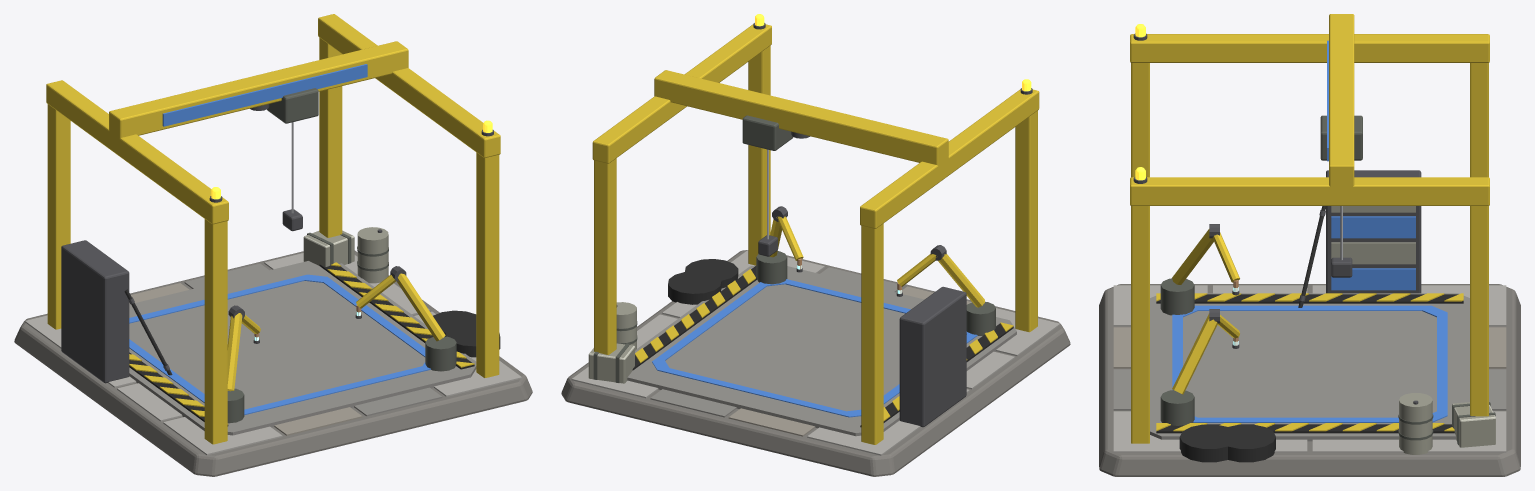
Rendered from repair_bay_blue.glb.
3 renders of one model, left to right at view 1: azimuth 30°, elevation 25°; view 2: azimuth 150°, elevation 25°; view 3: azimuth 270°, elevation 25°, orthographic. The views are drawn at different scales.
Visible parts, largest first — view 1: Body; view 2: Body; view 3: Body.
Boxes of the visible parts, left/top/right/bottom form: Body: left=14, top=14, right=532, bottom=476; Body: left=561, top=14, right=1070, bottom=476; Body: left=1099, top=14, right=1520, bottom=476.
Size of the model in its own units: 4.06 by 3.12 by 3.98.
Materials: 1 (1 with a texture image).
